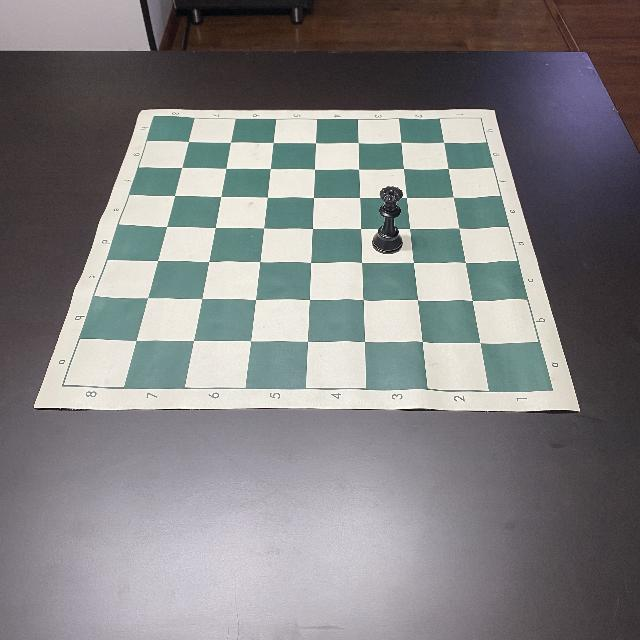black-queen: (372, 185, 404, 255)
board: (36, 108, 580, 412)
